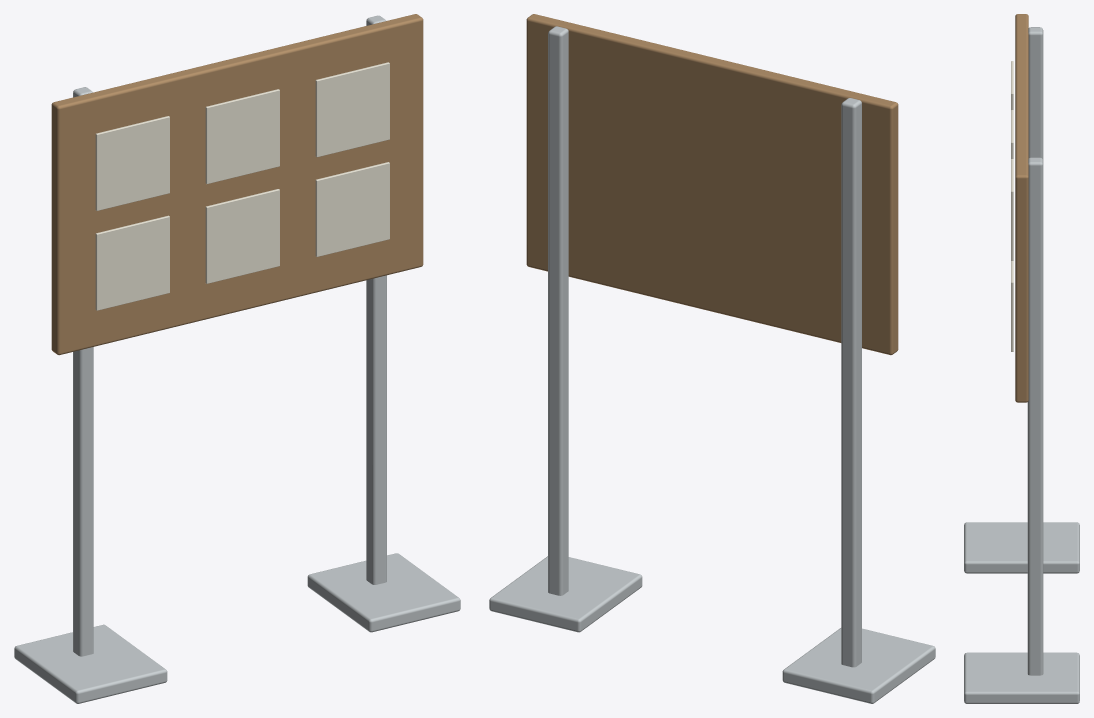
The model's file is rowing-boathouse-and-regatta-course-crew-notice-board-5d121823__32157.glb.
3 renders of one model, left to right at view 1: azimuth 30°, elevation 25°; view 2: azimuth 150°, elevation 25°; view 3: azimuth 270°, elevation 25°, orthographic. The views are drawn at different scales.
Visible parts, largest first — view 1: crew-notice-board; view 2: crew-notice-board; view 3: crew-notice-board.
Boxes of the visible parts, <box> form: crew-notice-board: <box>14,14,460,703</box>; crew-notice-board: <box>489,14,935,703</box>; crew-notice-board: <box>964,14,1079,703</box>.
Bounding box in the file's own units: 1.05 × 1.5 × 0.2999.
